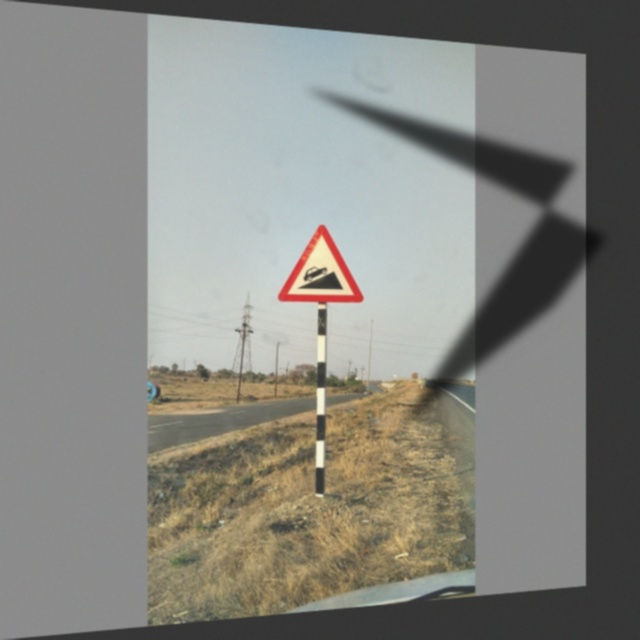Steep_Ascent: (270, 221, 369, 306)
